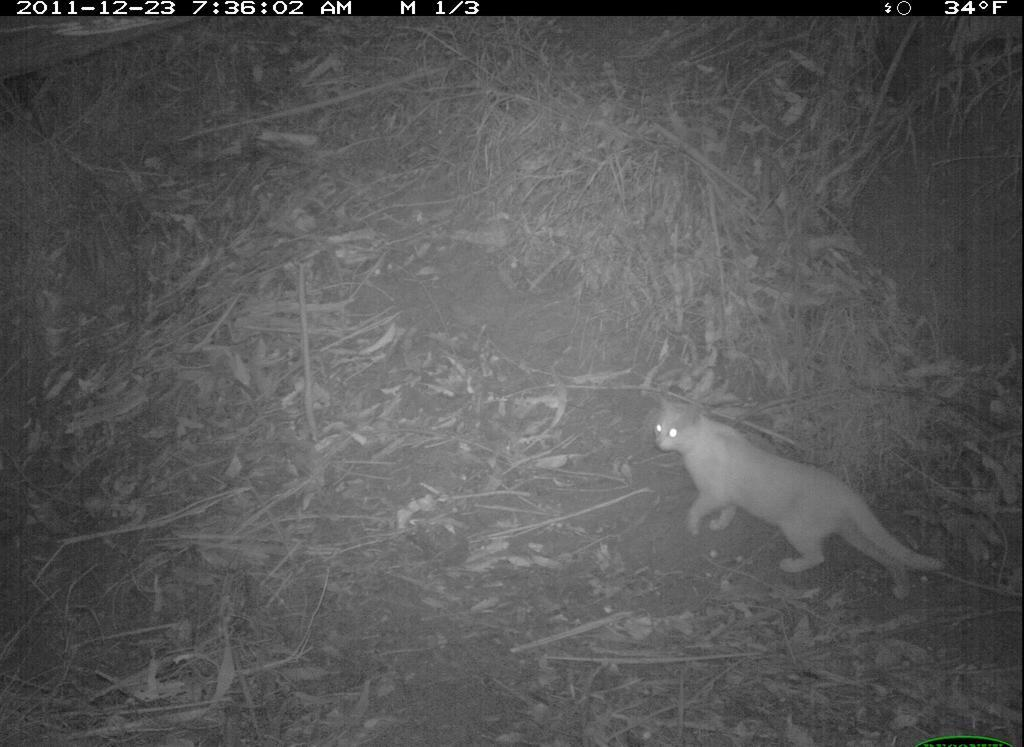cat: (647, 385, 951, 610)
